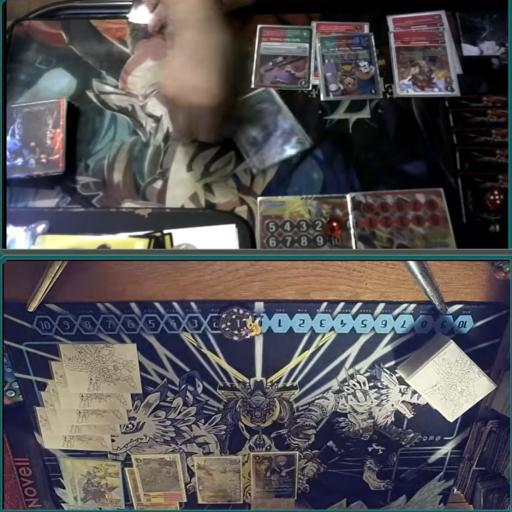card: (388, 32, 454, 97), (252, 23, 314, 92), (316, 34, 377, 104), (130, 452, 190, 504), (190, 454, 239, 504), (252, 450, 296, 500), (383, 10, 451, 36), (314, 17, 370, 38), (131, 499, 182, 512)
